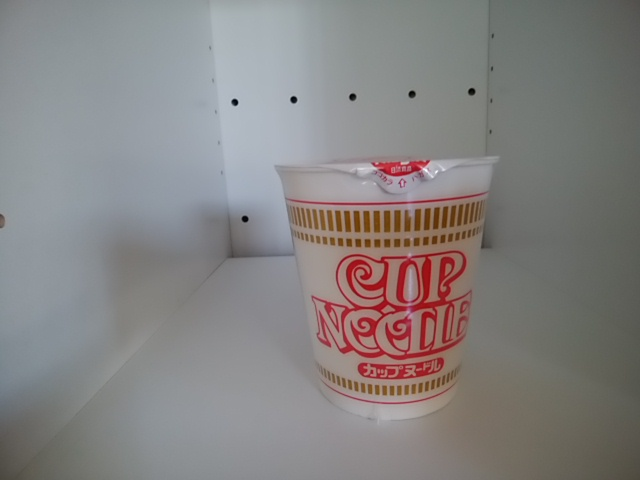cup-ramen: (268, 149, 522, 422)
